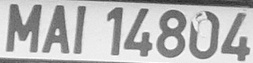0: (190, 10, 219, 59)
1: (103, 5, 122, 57)
4: (221, 10, 251, 61), (125, 6, 153, 57)
8: (156, 8, 187, 59)
A: (44, 2, 70, 56)
I: (73, 3, 87, 57)
M: (4, 2, 42, 55)
